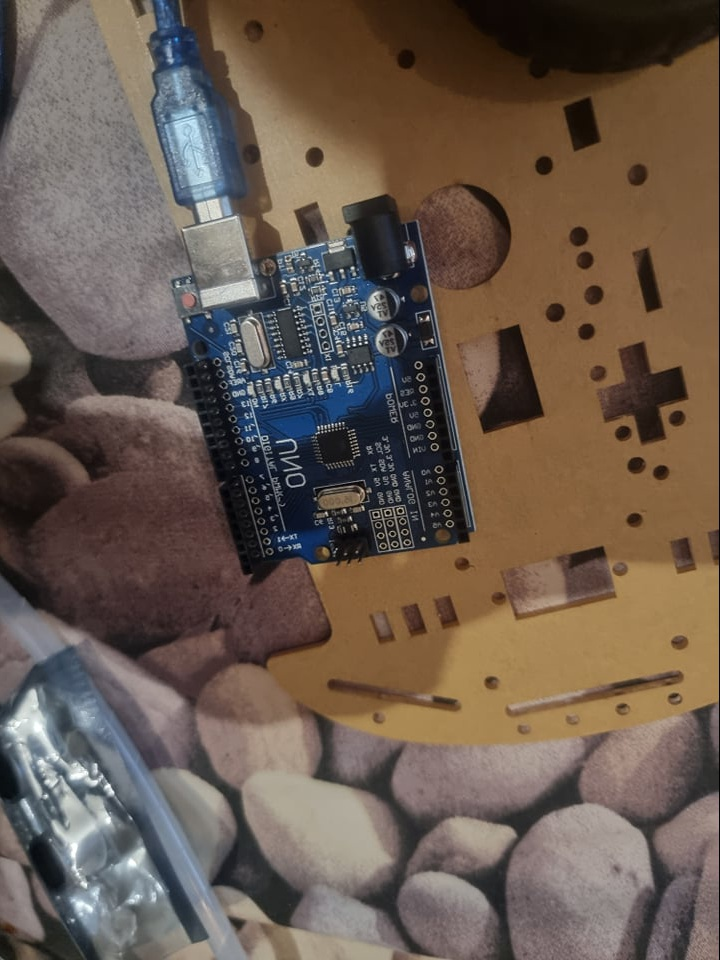UNO R3: (156, 193, 484, 576)
